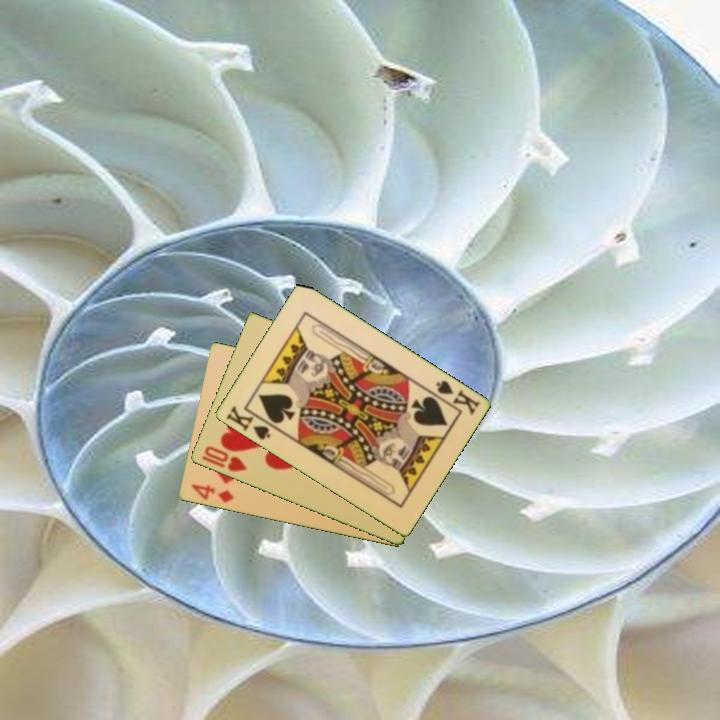10h: (197, 443, 250, 475)
4d: (188, 481, 236, 506)
Ks: (222, 402, 273, 443), (432, 377, 483, 418)
